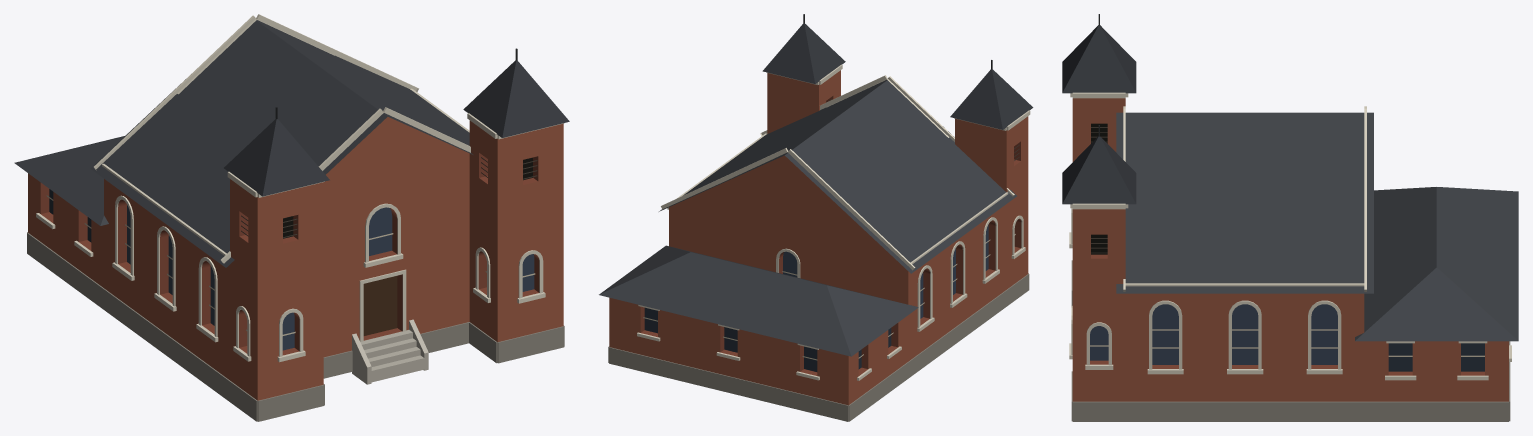
File: ch-bullock-temple-1961.glb
3 renders of one model, left to right at view 1: azimuth 30°, elevation 25°; view 2: azimuth 150°, elevation 25°; view 3: azimuth 270°, elevation 25°, orthographic. The views are drawn at different scales.
Visible parts, largest first — view 1: ch_brick, ch_roof, ch_trim, ch_base, ch_roof2, ch_brick2, ch_conc, ch_stain, ch_door; view 2: ch_brick, ch_roof, ch_base, ch_trim, ch_roof2, ch_brick2, ch_glass, ch_stain; view 3: ch_roof, ch_brick, ch_base, ch_roof2, ch_trim, ch_stain, ch_glass, ch_brick2, ch_shadow, ch_lead.
Boxes of the visible parts, left/top/right/bottom form: ch_brick: left=28, top=117, right=563, bottom=400; ch_roof: left=14, top=20, right=473, bottom=267; ch_trim: left=36, top=14, right=564, bottom=362; ch_base: left=27, top=232, right=564, bottom=421; ch_roof2: left=224, top=60, right=569, bottom=196; ch_brick2: left=40, top=153, right=539, bottom=355; ch_conc: left=352, top=319, right=428, bottom=384; ch_stain: left=127, top=205, right=534, bottom=350; ch_door: left=363, top=276, right=397, bottom=335; ch_brick: left=609, top=70, right=1028, bottom=405; ch_roof: left=599, top=79, right=1016, bottom=356; ch_base: left=608, top=273, right=1029, bottom=421; ch_trim: left=637, top=64, right=1030, bottom=380; ch_roof2: left=762, top=23, right=1033, bottom=129; ch_brick2: left=640, top=96, right=1021, bottom=375; ch_glass: left=644, top=307, right=891, bottom=371; ch_stain: left=783, top=224, right=988, bottom=318; ch_roof: left=1116, top=112, right=1518, bottom=341; ch_brick: left=1072, top=98, right=1508, bottom=401; ch_base: left=1071, top=260, right=1510, bottom=421; ch_roof2: left=1062, top=25, right=1136, bottom=204; ch_trim: left=1069, top=92, right=1511, bottom=380; ch_stain: left=1090, top=304, right=1337, bottom=364; ch_glass: left=1388, top=343, right=1484, bottom=371; ch_brick2: left=1090, top=254, right=1484, bottom=375; ch_shadow: left=1091, top=123, right=1107, bottom=254; ch_lead: left=1090, top=329, right=1484, bottom=356.
Size of the model in its own units: 14.75 by 12.95 by 18.94.
